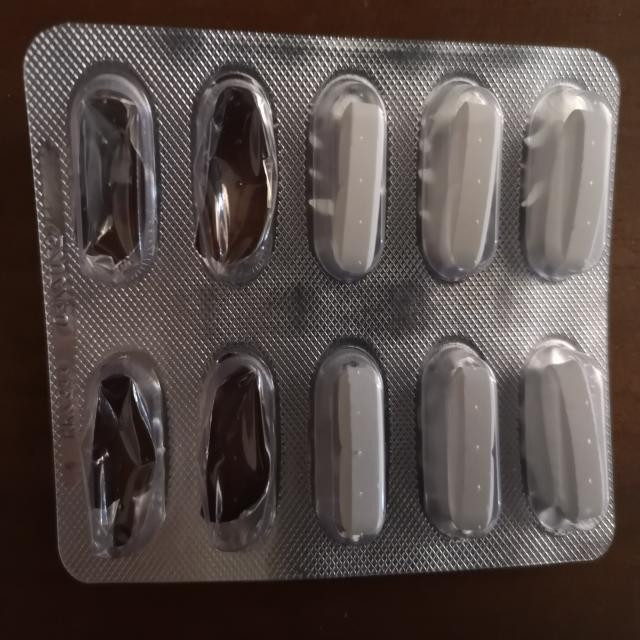Empty: (51, 56, 164, 289), (70, 340, 172, 563), (184, 58, 281, 287), (191, 332, 284, 556)
Pill: (511, 326, 618, 548), (298, 330, 396, 554), (406, 328, 504, 550), (414, 59, 505, 288), (514, 69, 609, 286), (302, 63, 392, 290)
